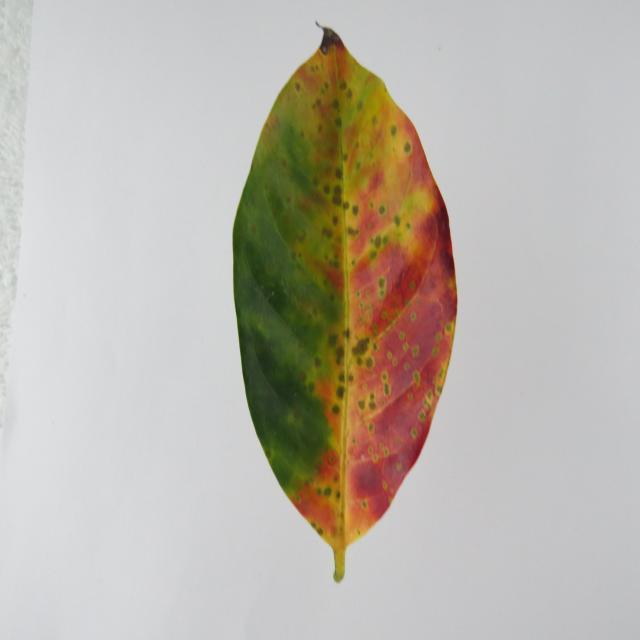DeficienciaNutricional-Fosforo: (234, 28, 456, 580)
